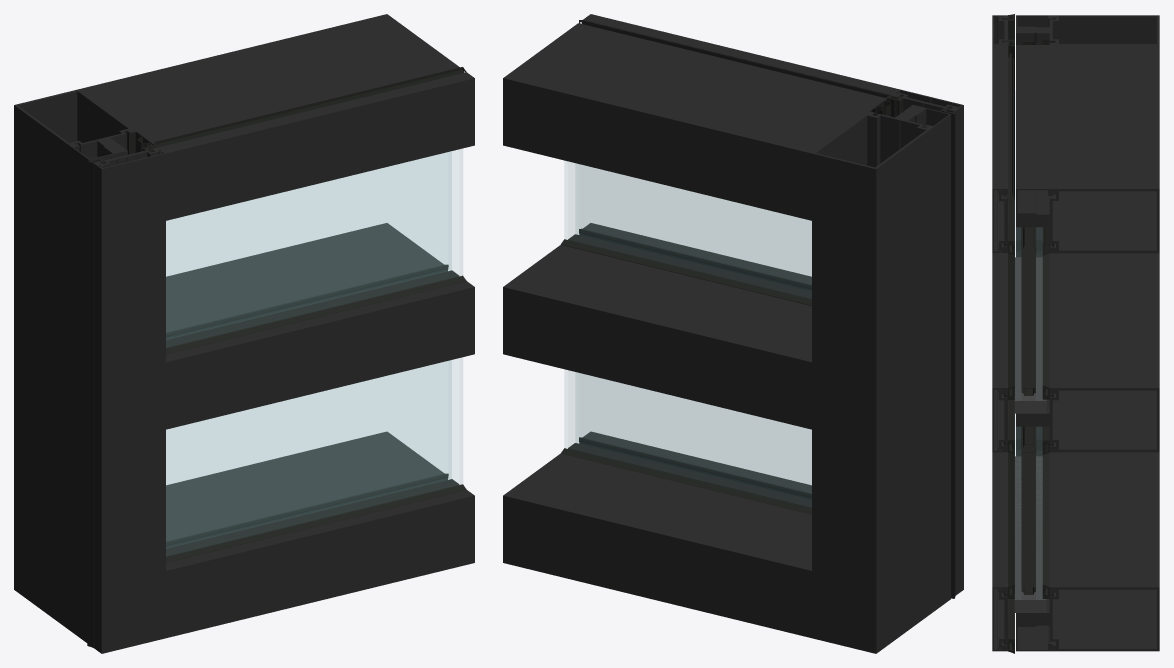
The model's file is CW250 3.875 DU Struct.glb.
3 views of the same model, side by side, from view 1: azimuth 30°, elevation 25°; view 2: azimuth 150°, elevation 25°; view 3: azimuth 270°, elevation 25° (orthographic). The views are drawn at different scales.
Visible parts, largest first — view 1: 0_curve_.001, 0_curve_.005, 0_curve_.004, 0_curve_.003, Cube, Cube.001; view 2: 0_curve_.001, 0_curve_.005, 0_curve_.004, 0_curve_.003, Cube.001, Cube; view 3: 0_curve_.005, 0_curve_.003, 0_curve_.004, 0_curve_.001, Cube, Cube.001.
Boxes of the visible parts, bbox=[...] form: 0_curve_.001: bbox=[14, 89, 165, 653]; 0_curve_.005: bbox=[79, 14, 474, 220]; 0_curve_.004: bbox=[166, 223, 474, 429]; 0_curve_.003: bbox=[166, 431, 474, 638]; Cube: bbox=[166, 149, 462, 347]; Cube.001: bbox=[166, 358, 462, 555]; 0_curve_.001: bbox=[812, 89, 963, 653]; 0_curve_.005: bbox=[503, 14, 898, 220]; 0_curve_.004: bbox=[503, 223, 811, 429]; 0_curve_.003: bbox=[503, 431, 811, 638]; Cube.001: bbox=[565, 370, 811, 507]; Cube: bbox=[565, 161, 811, 298]; 0_curve_.005: bbox=[992, 42, 1159, 255]; 0_curve_.003: bbox=[992, 452, 1159, 653]; 0_curve_.004: bbox=[992, 253, 1159, 454]; 0_curve_.001: bbox=[992, 14, 1159, 456]; Cube: bbox=[1015, 91, 1042, 256]; Cube.001: bbox=[1015, 414, 1042, 507].
Size of the model in its own units: 0.3708 by 0.4623 by 0.1499.
